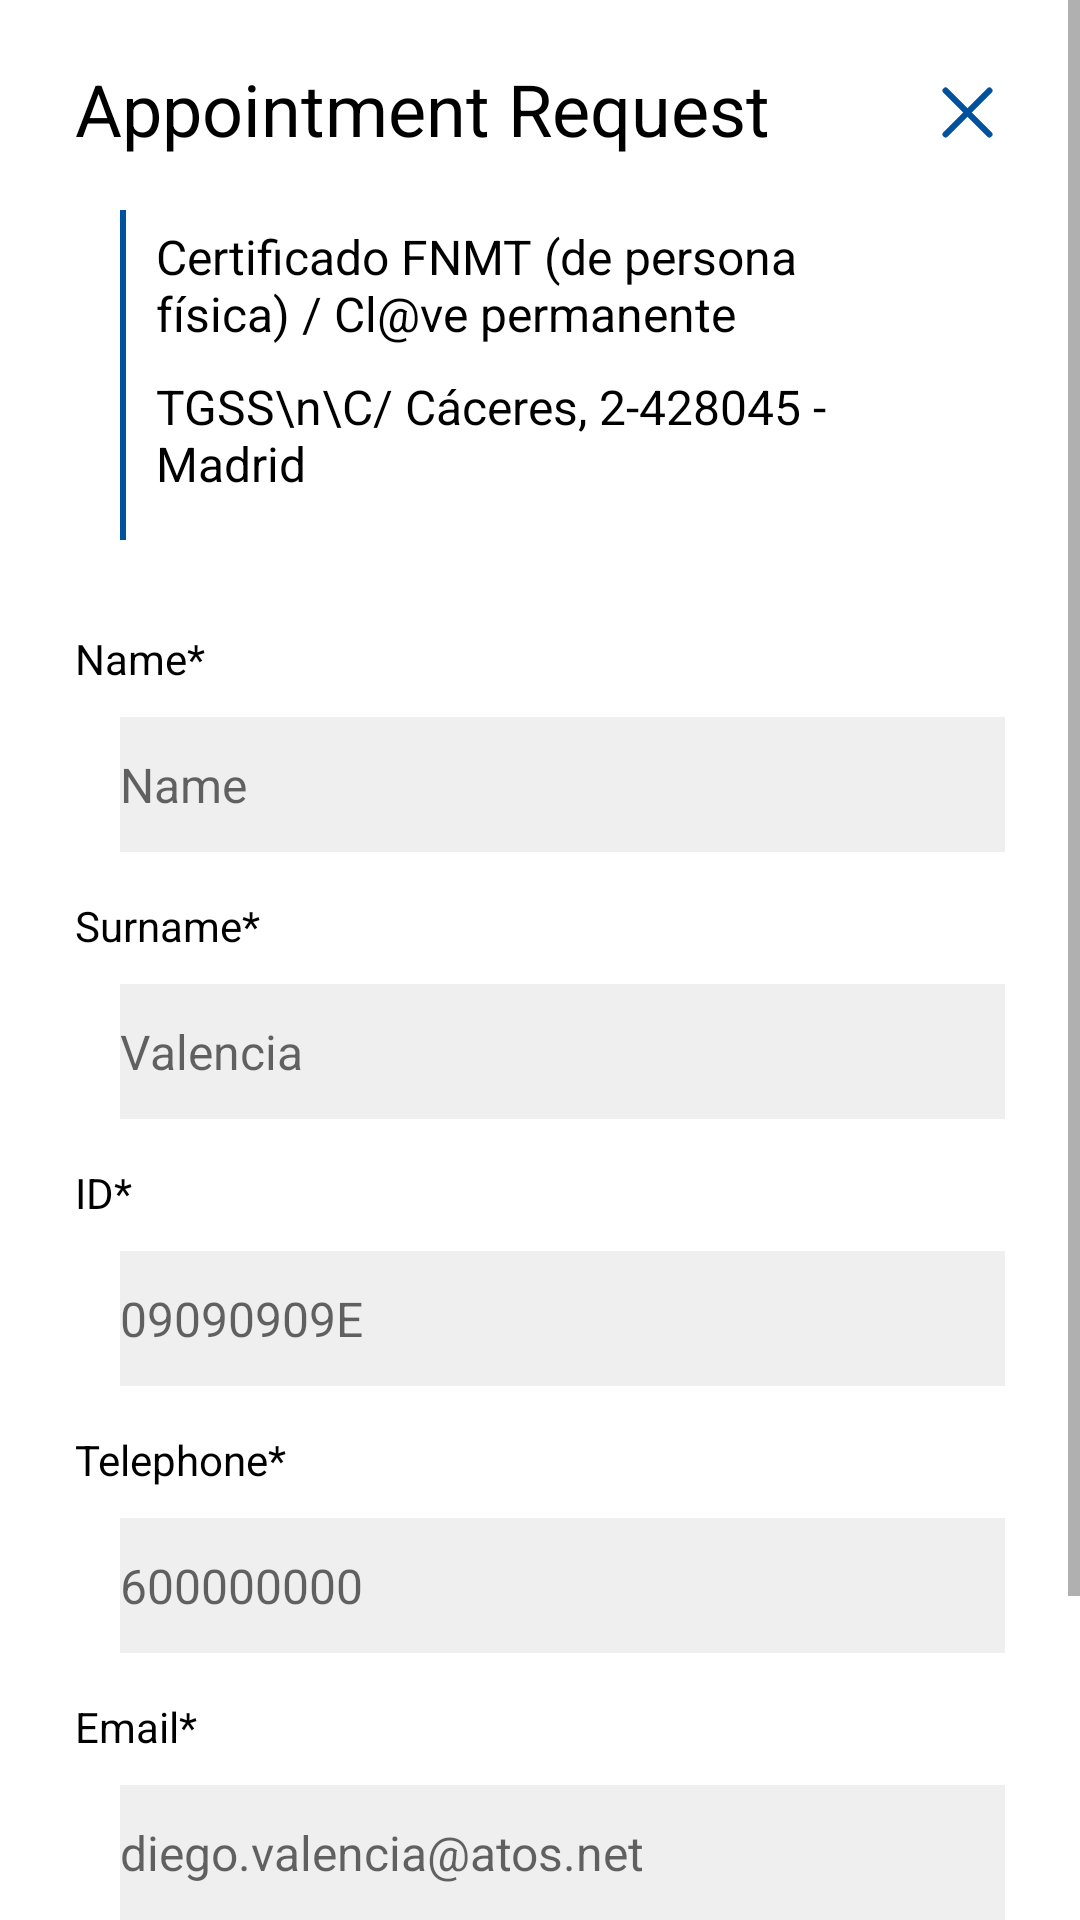

Screen size 1080px×1920px. Icon name, then its box in pixels as (x1, y1, x2, y2):
cross: (942, 87, 993, 138)
